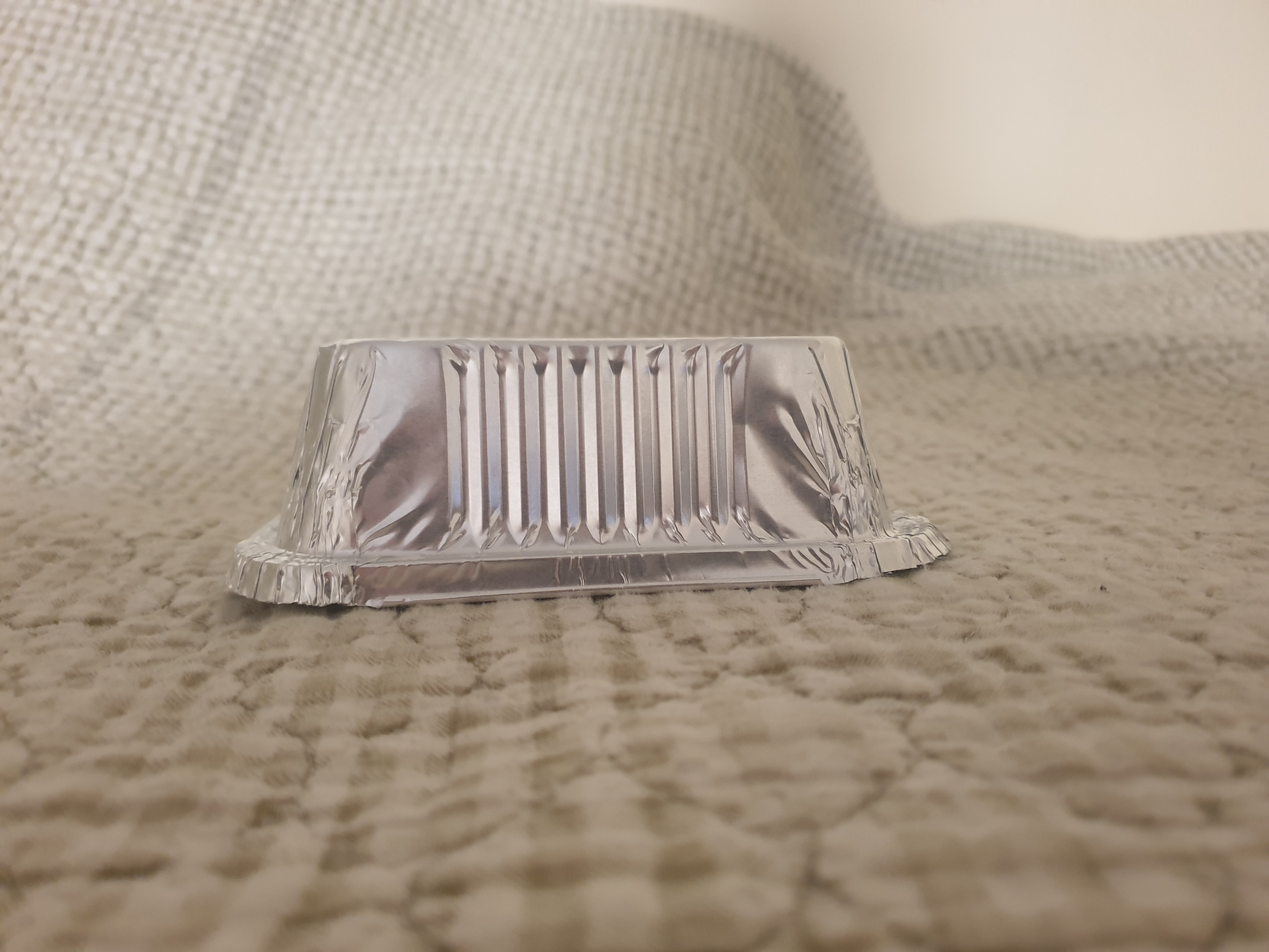Metal: (220, 315, 956, 642)
